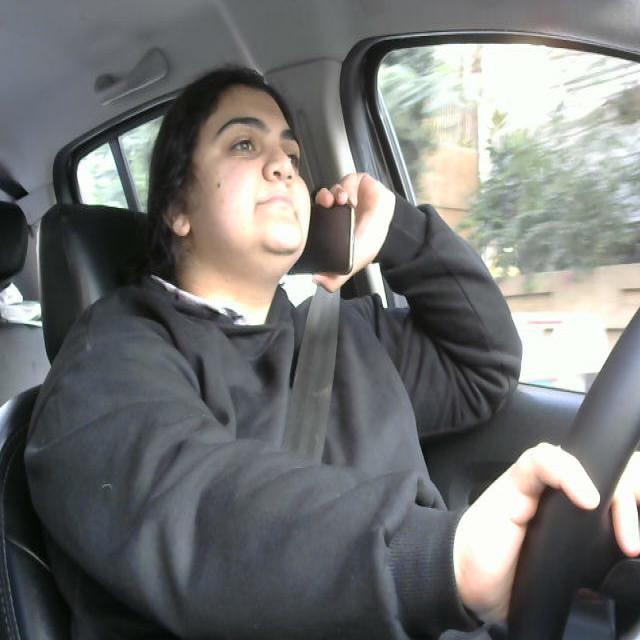mobile use: (308, 184, 355, 294)
